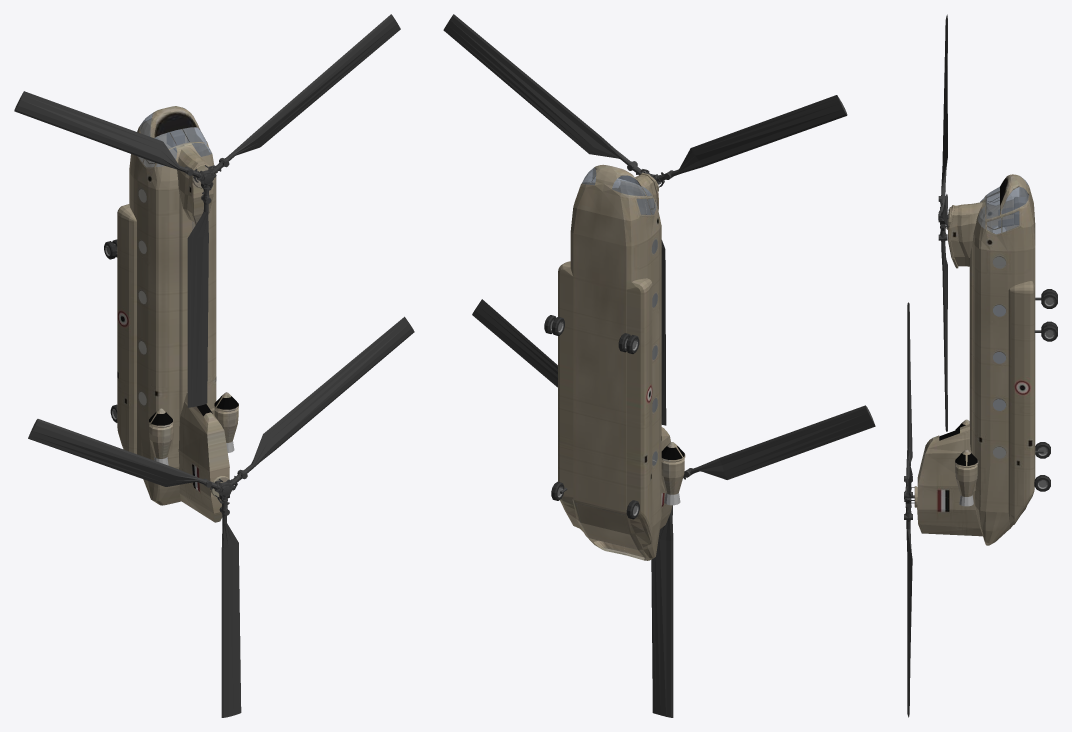
3 renders of one model, left to right at view 1: azimuth 30°, elevation 25°; view 2: azimuth 150°, elevation 25°; view 3: azimuth 270°, elevation 25°, orthographic. The views are drawn at different scales.
Parts seen in each view (by area): view 1: ch47; view 2: ch47; view 3: ch47.
Boxes of the visible parts, <box> form: ch47: <box>14,14,414,717</box>; ch47: <box>443,14,875,717</box>; ch47: <box>904,14,1057,717</box>.
Bounding box in the file's own units: 16.32 × 25.96 × 5.9.
4 materials, 4 textured.
